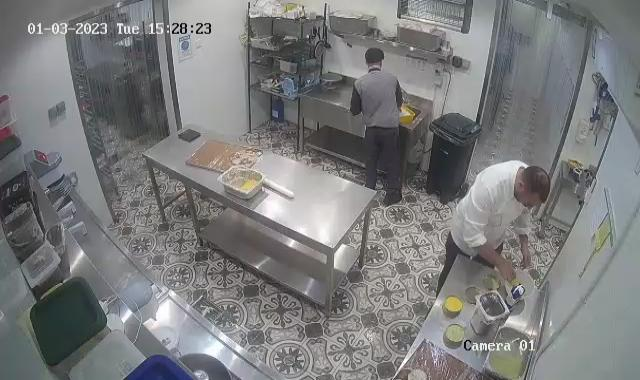no_hairnet: (517, 163, 553, 204), (362, 46, 386, 67)
